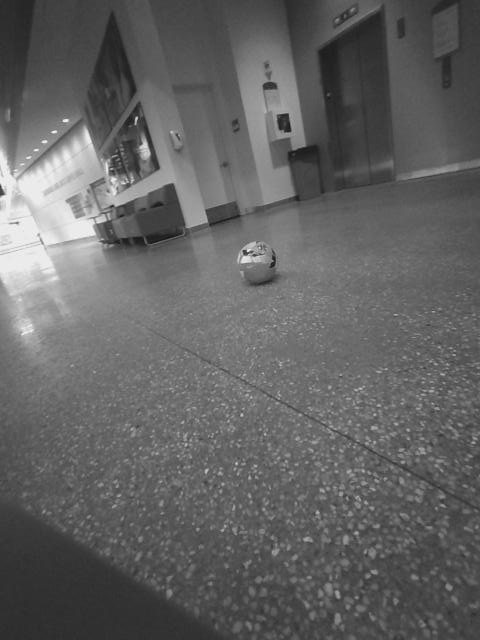ball: (227, 235, 288, 291)
